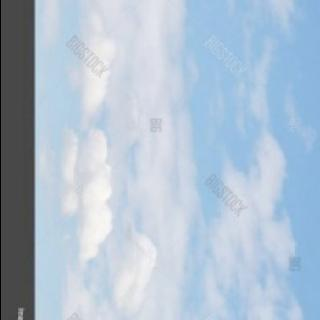Cirrostratus: (39, 0, 320, 320)
